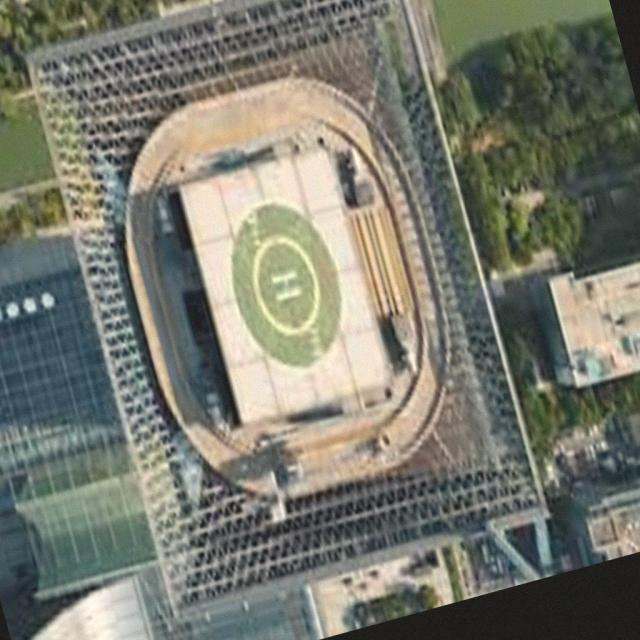helipad: (251, 230, 323, 338)
